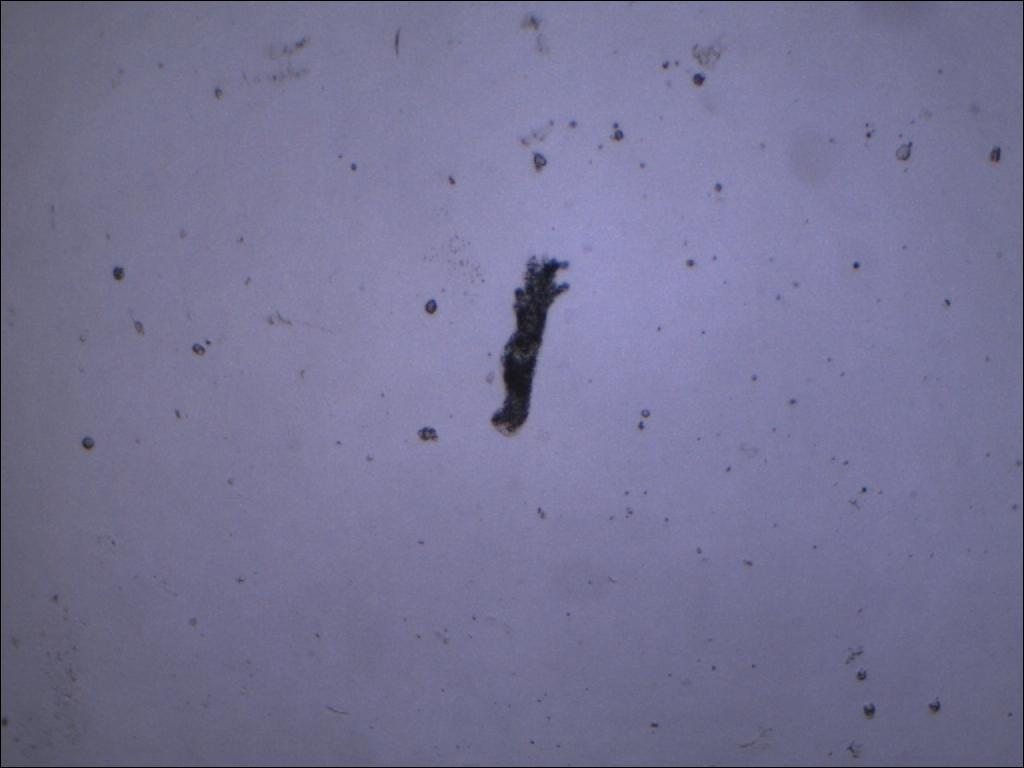amoeba: (481, 243, 582, 448)
